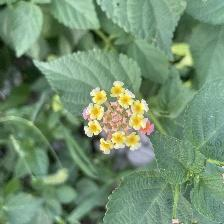common lanthana: (82, 79, 158, 156)
